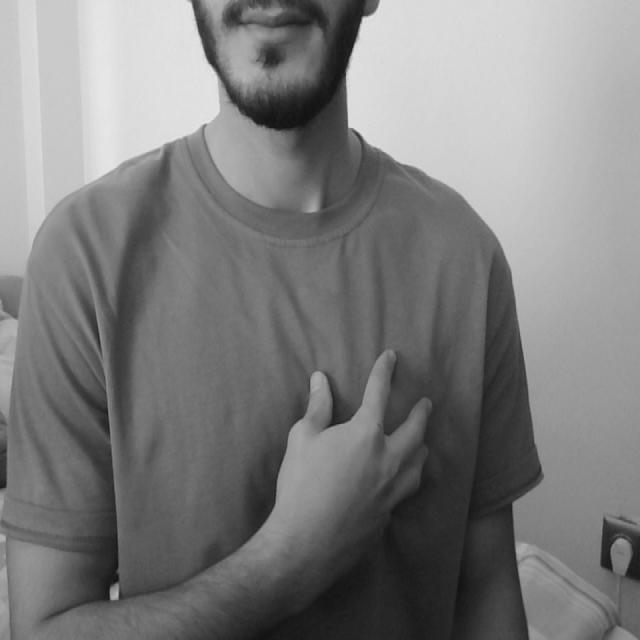Anne: (277, 342, 453, 570)
